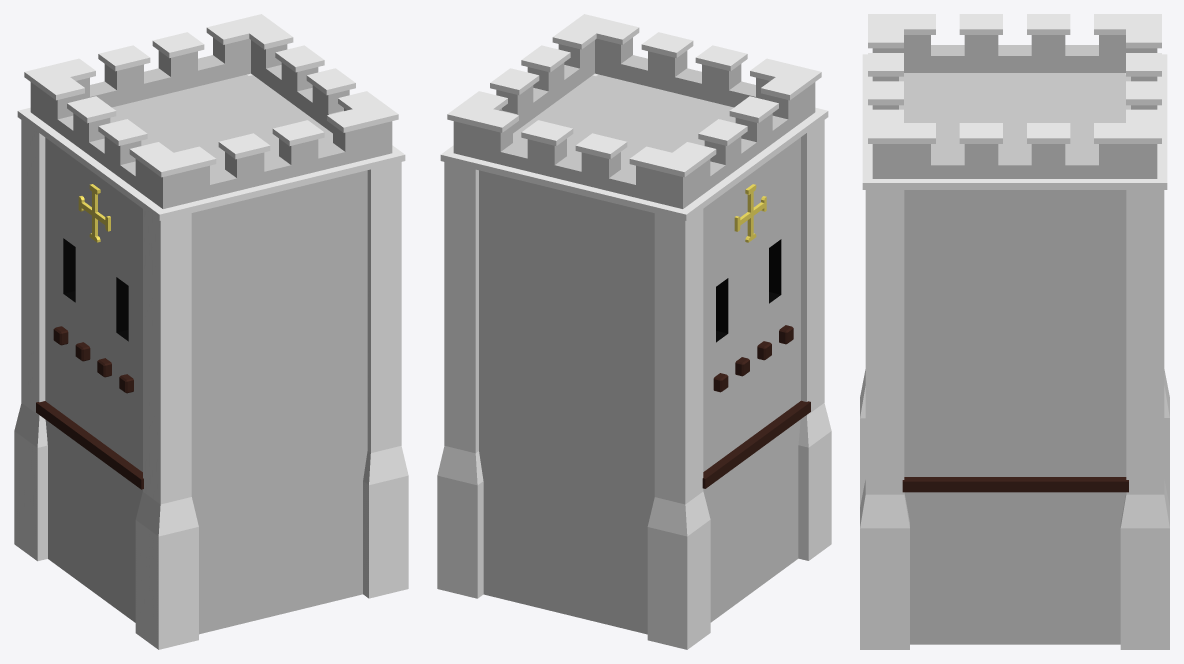
The model's file is fortification_tower_big.FBX.
3 views of the same model, side by side, from view 1: azimuth 30°, elevation 25°; view 2: azimuth 150°, elevation 25°; view 3: azimuth 270°, elevation 25° (orthographic). The views are drawn at different scales.
Parts seen in each view (by area): view 1: fortification_tower_big; view 2: fortification_tower_big; view 3: fortification_tower_big.
Boxes of the visible parts, left/top/right/bottom form: fortification_tower_big: left=14, top=14, right=408, bottom=649; fortification_tower_big: left=437, top=14, right=831, bottom=649; fortification_tower_big: left=860, top=14, right=1169, bottom=649.
Bounding box in the file's own units: 1167 × 2112 × 1167.
